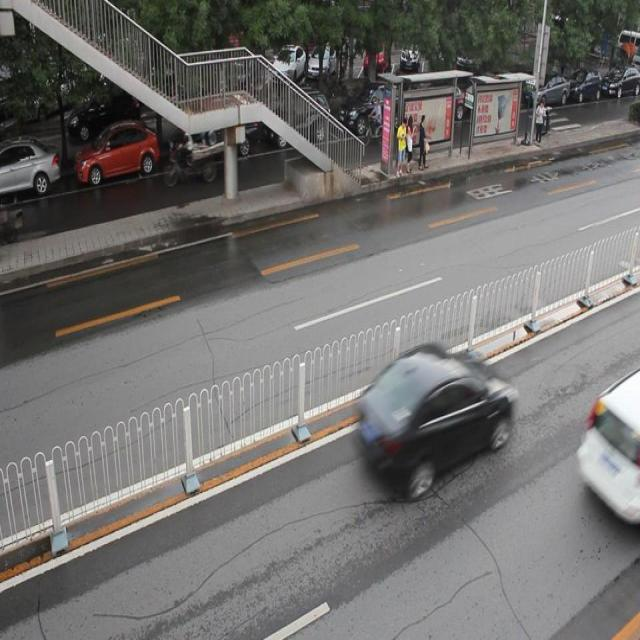car: (352, 342, 514, 495), (574, 373, 640, 519), (73, 118, 160, 184), (169, 100, 256, 162), (264, 90, 330, 148), (339, 79, 408, 133), (1, 136, 59, 198)
